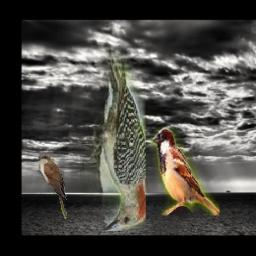Cuckoo: (37, 155, 67, 220)
Sparrow: (151, 128, 220, 216)
Woodpecker: (81, 45, 147, 231)
